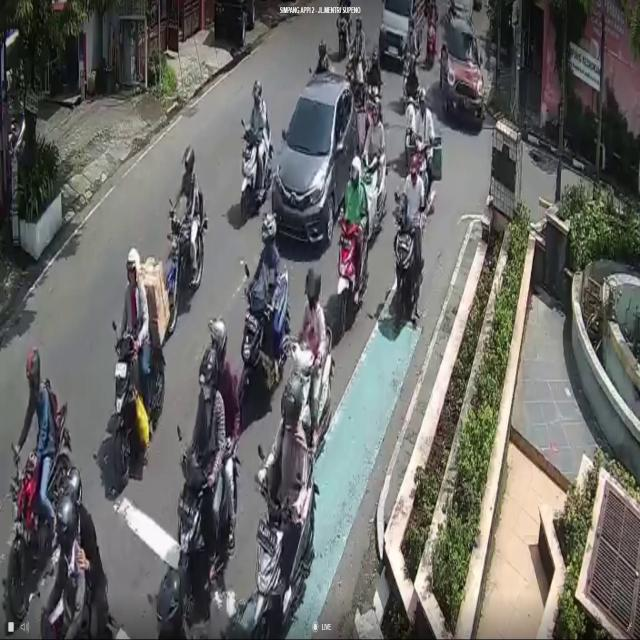bus: (3, 401, 75, 618), (175, 450, 241, 622), (110, 318, 172, 485), (252, 476, 318, 630), (239, 268, 290, 422), (282, 323, 336, 457), (166, 194, 204, 334), (338, 212, 370, 341), (394, 203, 424, 330), (239, 118, 275, 223), (361, 151, 389, 234)
motorcycle: (271, 71, 363, 250), (441, 5, 487, 135), (378, 0, 427, 69)
